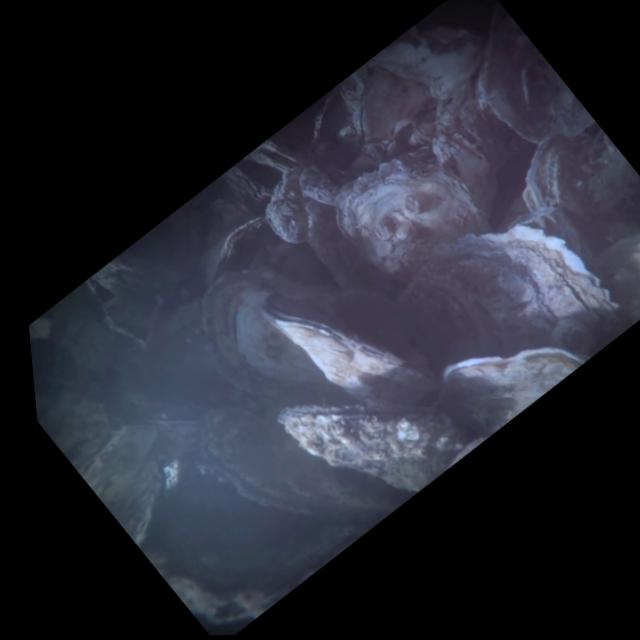Oyster-Closed: (394, 206, 618, 364), (253, 294, 440, 405), (271, 399, 470, 495), (437, 340, 588, 432), (517, 127, 591, 234), (504, 207, 581, 254)
Oyster-Indeterminate: (189, 401, 397, 524), (329, 147, 494, 288), (195, 257, 342, 409), (207, 212, 337, 285)
Oyster-Open: (247, 138, 306, 174)
